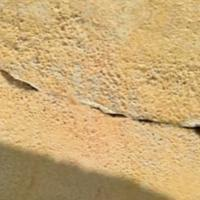crack: (0, 58, 199, 146)
